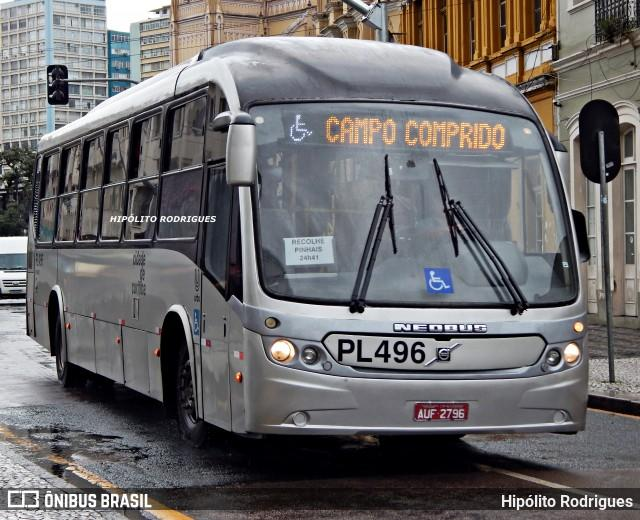CAMPO COMPRIDO: (321, 108, 510, 156)
